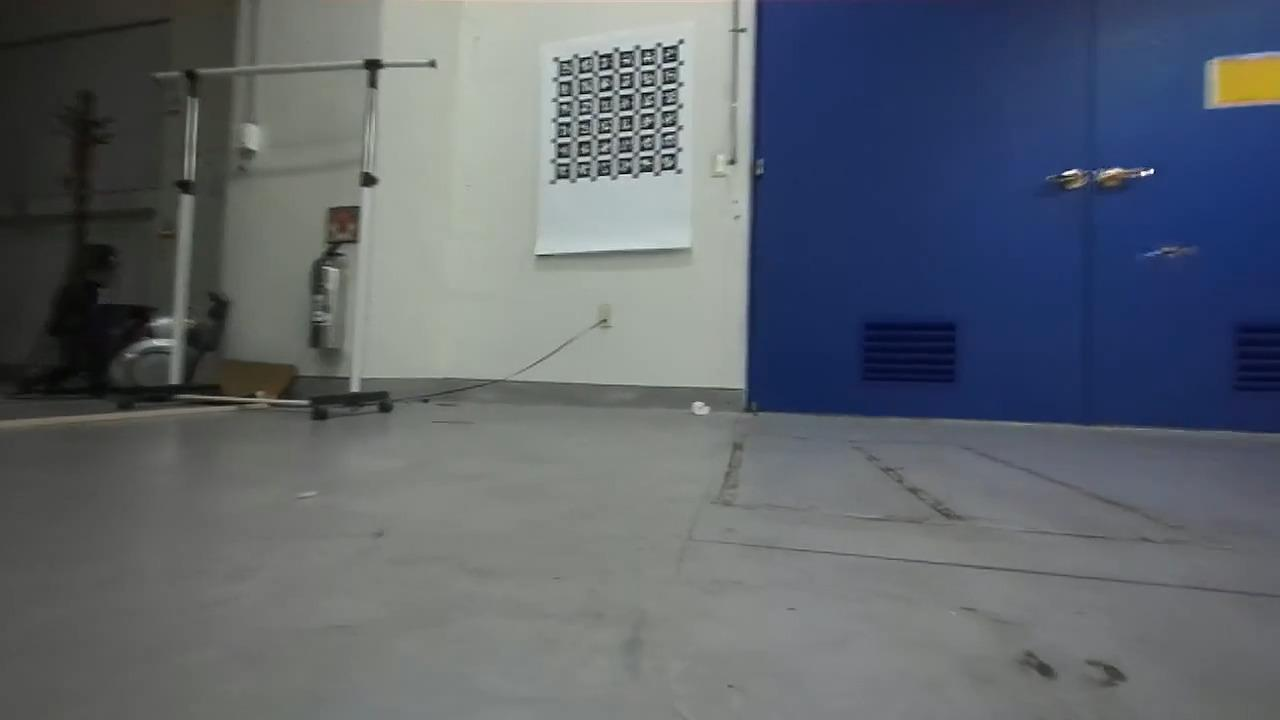crazyflie: (1130, 238, 1203, 266)
